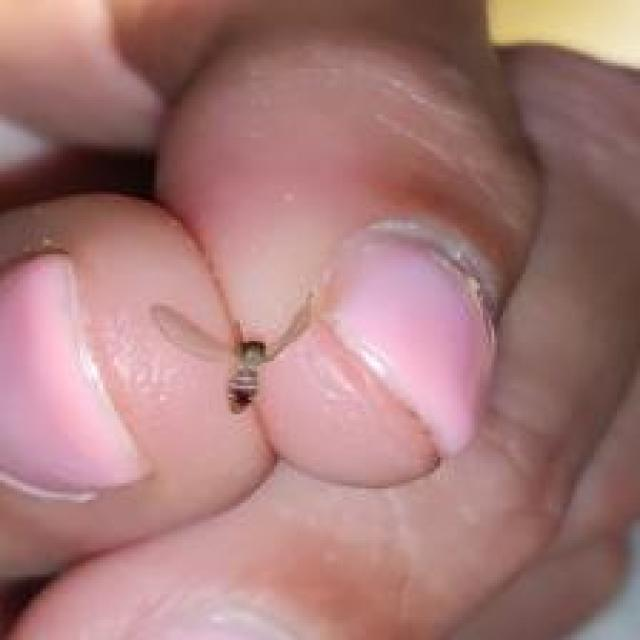Culex: (150, 286, 319, 414)
